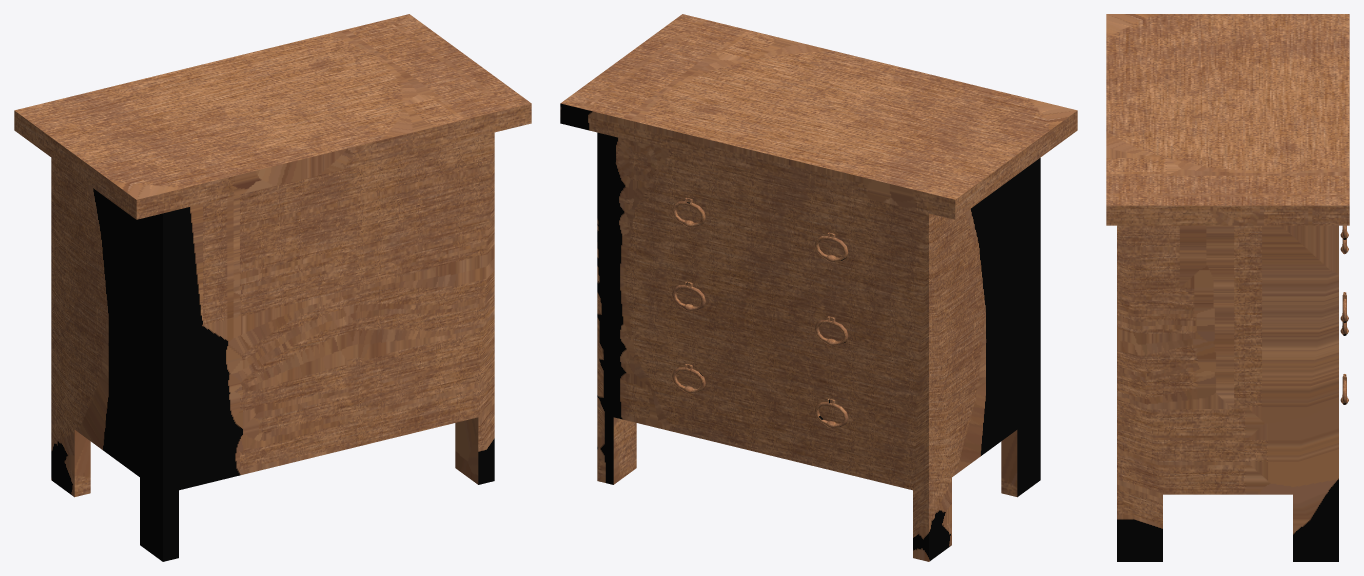
Rendered from Dresser.fbx.
3 views of the same model, side by side, from view 1: azimuth 30°, elevation 25°; view 2: azimuth 150°, elevation 25°; view 3: azimuth 270°, elevation 25° (orthographic).
Parts seen in each view (by area): view 1: Dresser; view 2: Dresser; view 3: Dresser.
Boxes of the visible parts, x1=… form: Dresser: x1=14, y1=14, x2=531, y2=561; Dresser: x1=560, y1=14, x2=1077, y2=561; Dresser: x1=1106, y1=14, x2=1349, y2=561.
Size of the model in its own units: 99.41 by 89.85 by 53.25.
